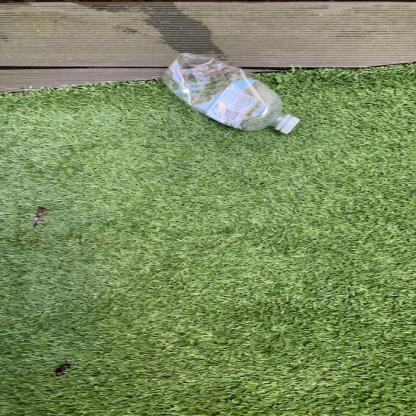trash: (162, 53, 303, 136)
